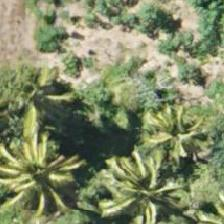coconut_tree: (2, 126, 92, 216), (137, 75, 223, 165), (85, 147, 175, 223)
